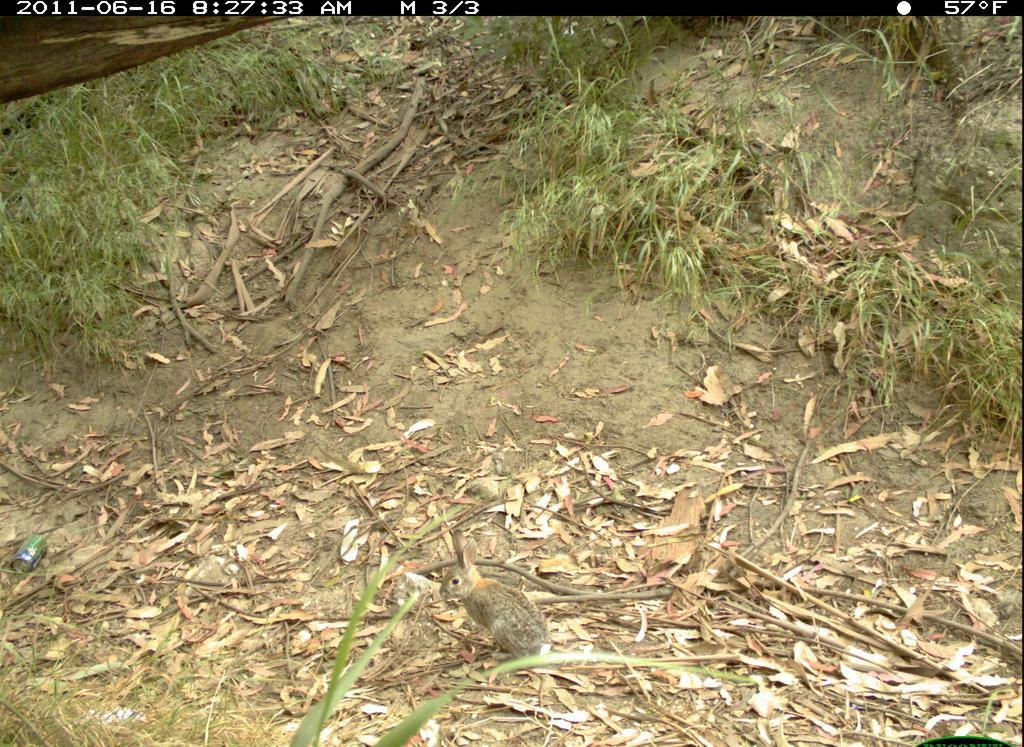rabbit: (432, 521, 574, 679)
